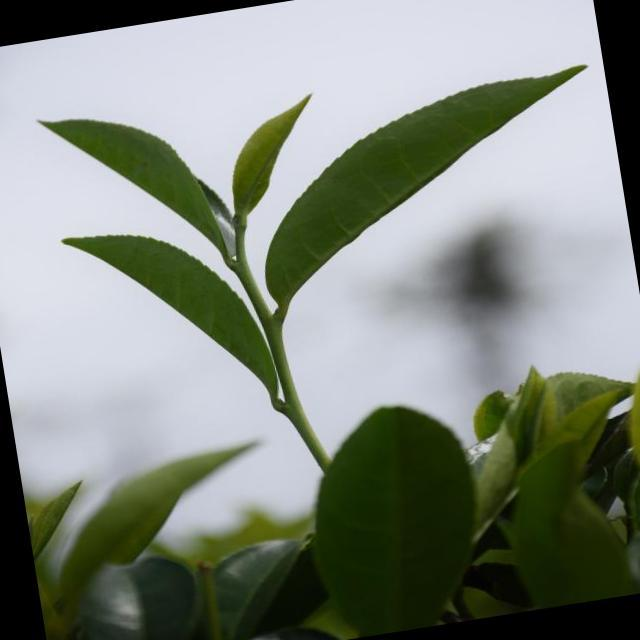Stem: (234, 262, 253, 282)
